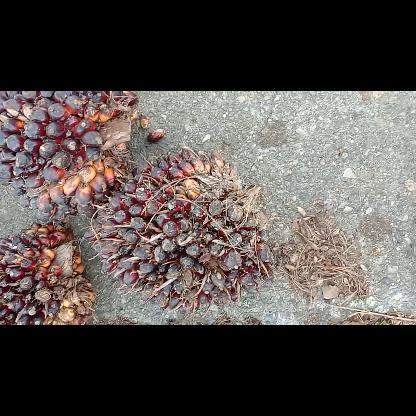TBS mentah: (85, 150, 275, 310), (2, 90, 138, 222), (0, 220, 99, 325)
